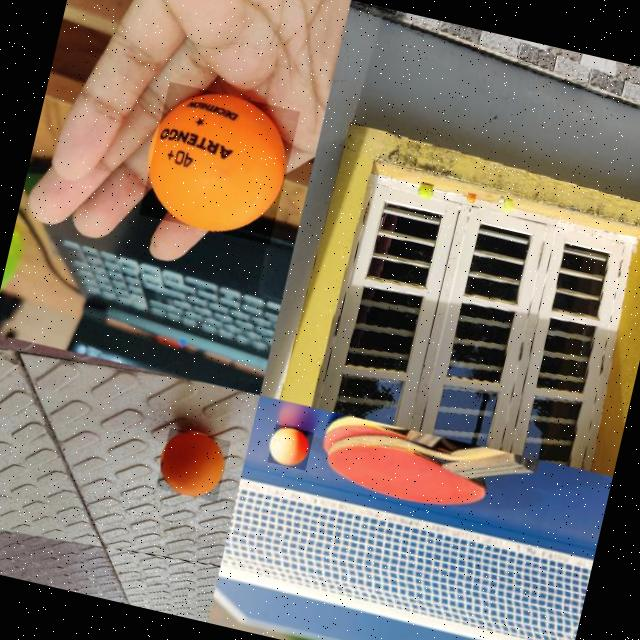ping-pong-ball: (136, 79, 300, 244), (153, 424, 230, 502), (265, 420, 313, 470), (466, 193, 476, 203)
